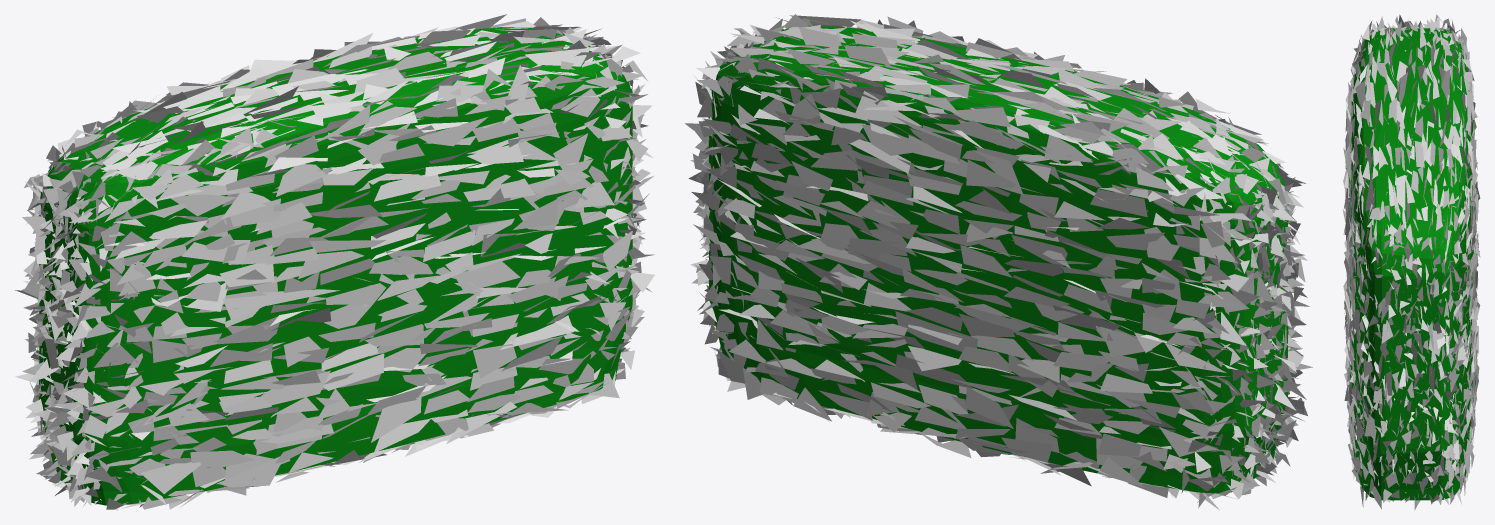
The model's file is HedgeTest.fbx.
The picture shows the model from 3 angles, left to right: view 1: azimuth 30°, elevation 25°; view 2: azimuth 150°, elevation 25°; view 3: azimuth 270°, elevation 25°; orthographic projection. The views are drawn at different scales.
Parts seen in each view (by area): view 1: Cube.002, Cube.001; view 2: Cube.002, Cube.001; view 3: Cube.002, Cube.001.
Part boxes in pixels (x1,y1,x2,y2): Cube.002: (15,14,654,510); Cube.001: (39,27,632,505); Cube.002: (685,14,1312,510); Cube.001: (708,25,1288,493); Cube.002: (1342,14,1480,510); Cube.001: (1349,28,1473,500).
Bounding box in the file's own units: 1064 × 252 × 634.
